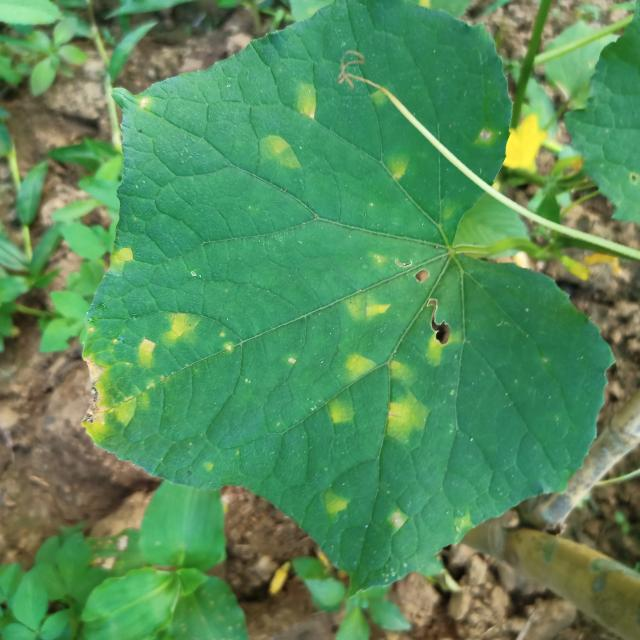disease_cucumber: (328, 250, 457, 456), (80, 314, 202, 458), (261, 76, 321, 184), (377, 139, 415, 188), (99, 239, 142, 281), (318, 484, 354, 528)
